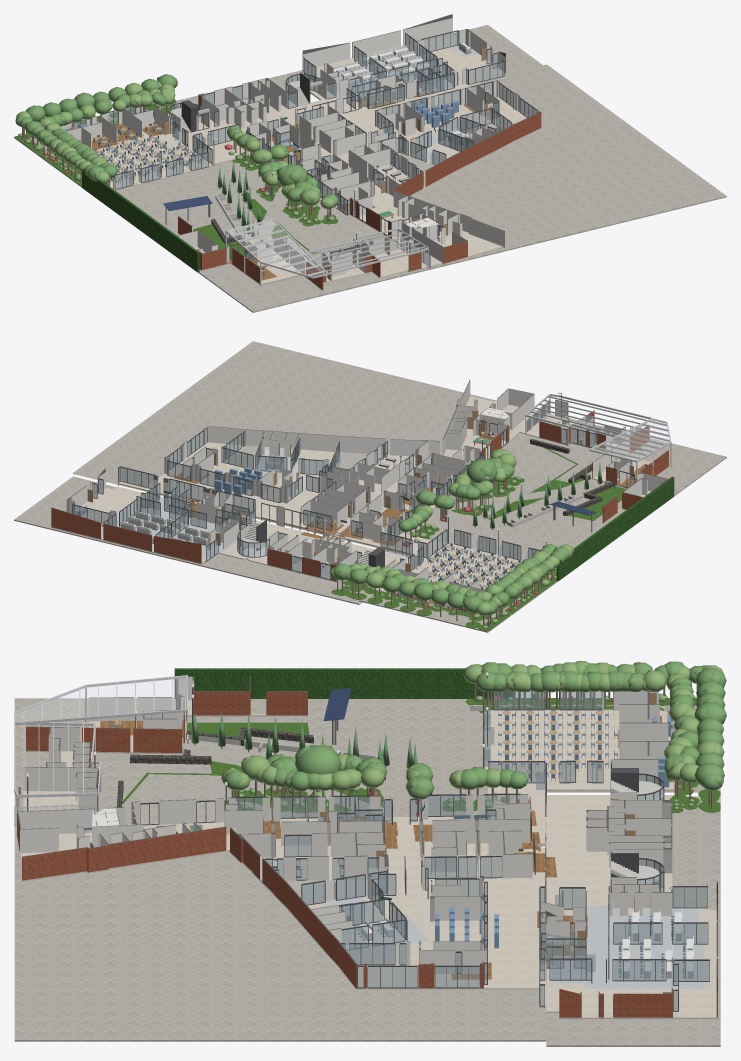
Rendered from floor-1.glb.
The picture shows the model from 3 angles, top to bottom: view 1: azimuth 30°, elevation 25°; view 2: azimuth 150°, elevation 25°; view 3: azimuth 270°, elevation 25°; orthographic projection. The views are drawn at different scales.
Parts seen in each view (by area): view 1: Site, Walls, Floor_Slab, Glass, Deco_Tree_Crowns_0_2, Floor_Zones, Deco_Grass, Canopy_Access_Roof, Deco_Green_Wall, Glass_Frames_Top, Deco_Tree_Crowns_1_1, Canopy_Terrace_Frame (+22 smaller); view 2: Site, Walls, Floor_Slab, Glass, Deco_Tree_Crowns_0_2, Floor_Zones, Deco_Grass, Deco_Green_Wall, Glass_Frames_Top, Deco_Tree_Crowns_1_1, Canopy_Access_Roof, Canopy_Terrace_Frame (+22 smaller); view 3: Site, Walls, Floor_Slab, Glass, Floor_Zones, Deco_Tree_Crowns_0_2, Deco_Green_Wall, Deco_Tree_Crowns_1_1, Deco_Grass, Canopy_Access_Roof, Glass_Frames_Top, Ramps_Stairs (+25 smaller).
Boxes of the visible parts, x1=… form: Site: x1=14, y1=25, x2=726, y2=312; Walls: x1=61, y1=14, x2=541, y2=289; Floor_Slab: x1=96, y1=34, x2=541, y2=290; Glass: x1=76, y1=31, x2=536, y2=257; Deco_Tree_Crowns_0_2: x1=15, y1=78, x2=165, y2=181; Floor_Zones: x1=92, y1=45, x2=487, y2=280; Deco_Grass: x1=15, y1=100, x2=338, y2=260; Canopy_Access_Roof: x1=227, y1=219, x2=326, y2=276; Deco_Green_Wall: x1=82, y1=169, x2=199, y2=272; Glass_Frames_Top: x1=82, y1=30, x2=539, y2=252; Deco_Tree_Crowns_1_1: x1=236, y1=134, x2=320, y2=205; Canopy_Terrace_Frame: x1=302, y1=228, x2=428, y2=274; Site: x1=14, y1=341, x2=726, y2=632; Walls: x1=51, y1=380, x2=668, y2=613; Floor_Slab: x1=51, y1=396, x2=668, y2=613; Glass: x1=73, y1=428, x2=596, y2=606; Deco_Tree_Crowns_0_2: x1=349, y1=544, x2=571, y2=614; Floor_Zones: x1=75, y1=431, x2=653, y2=605; Deco_Grass: x1=331, y1=447, x2=625, y2=631; Deco_Green_Wall: x1=556, y1=476, x2=674, y2=581; Glass_Frames_Top: x1=72, y1=406, x2=634, y2=565; Deco_Tree_Crowns_1_1: x1=412, y1=453, x2=516, y2=522; Canopy_Access_Roof: x1=591, y1=418, x2=670, y2=460; Canopy_Terrace_Frame: x1=525, y1=394, x2=652, y2=446; Site: x1=14, y1=698, x2=720, y2=1046; Walls: x1=17, y1=676, x2=717, y2=1017; Floor_Slab: x1=17, y1=700, x2=717, y2=1018; Glass: x1=237, y1=689, x2=709, y2=1010; Floor_Zones: x1=100, y1=716, x2=704, y2=1017; Deco_Tree_Crowns_0_2: x1=475, y1=661, x2=726, y2=774; Deco_Green_Wall: x1=174, y1=668, x2=515, y2=698; Deco_Tree_Crowns_1_1: x1=241, y1=744, x2=486, y2=799; Deco_Grass: x1=122, y1=698, x2=720, y2=813; Canopy_Access_Roof: x1=15, y1=675, x2=186, y2=721; Glass_Frames_Top: x1=84, y1=690, x2=709, y2=996; Ramps_Stairs: x1=147, y1=821, x2=662, y2=1018.
Size of the model in its own units: 87.83 by 7.22 by 76.75.
43 materials, 14 textured.
